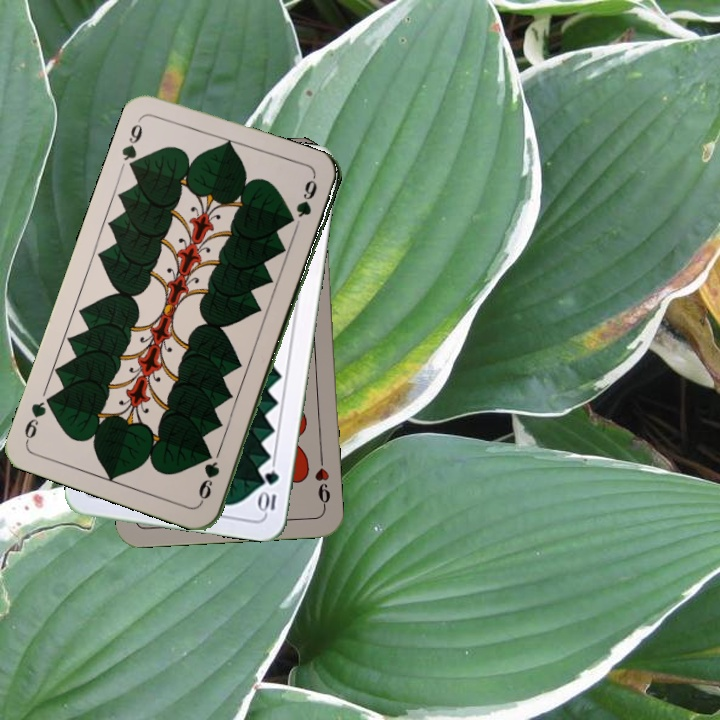G10: (257, 467, 282, 516)
G9: (118, 113, 145, 174), (194, 457, 223, 506)
H9: (311, 452, 333, 511)
